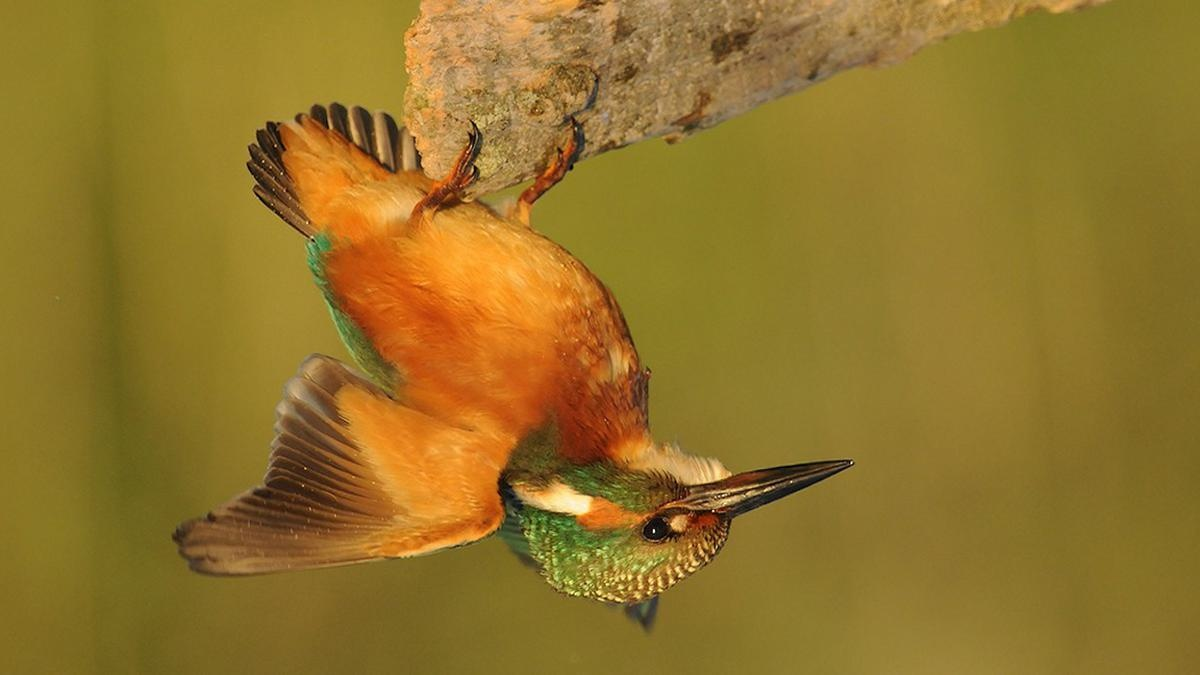kingfisher: (175, 100, 859, 619)
